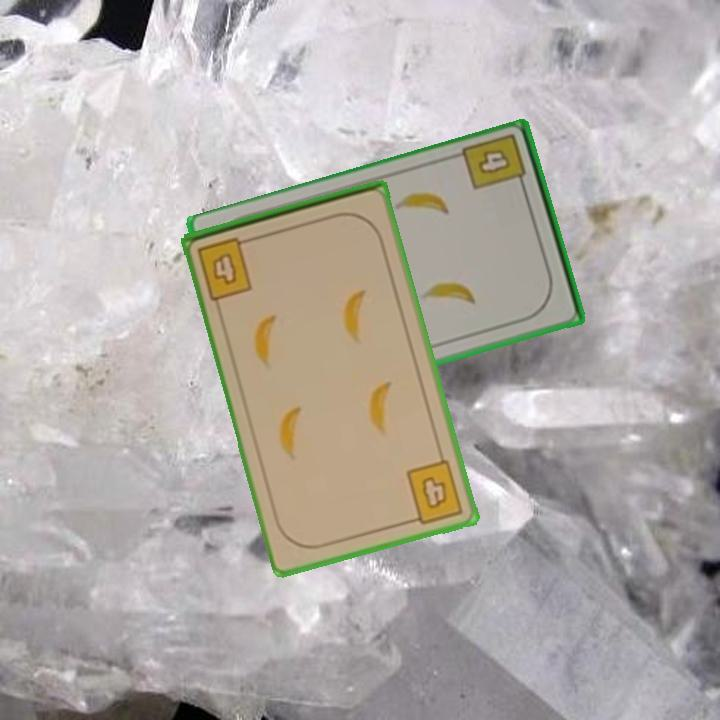4b: (459, 130, 529, 195), (403, 456, 466, 527), (194, 233, 257, 303)
